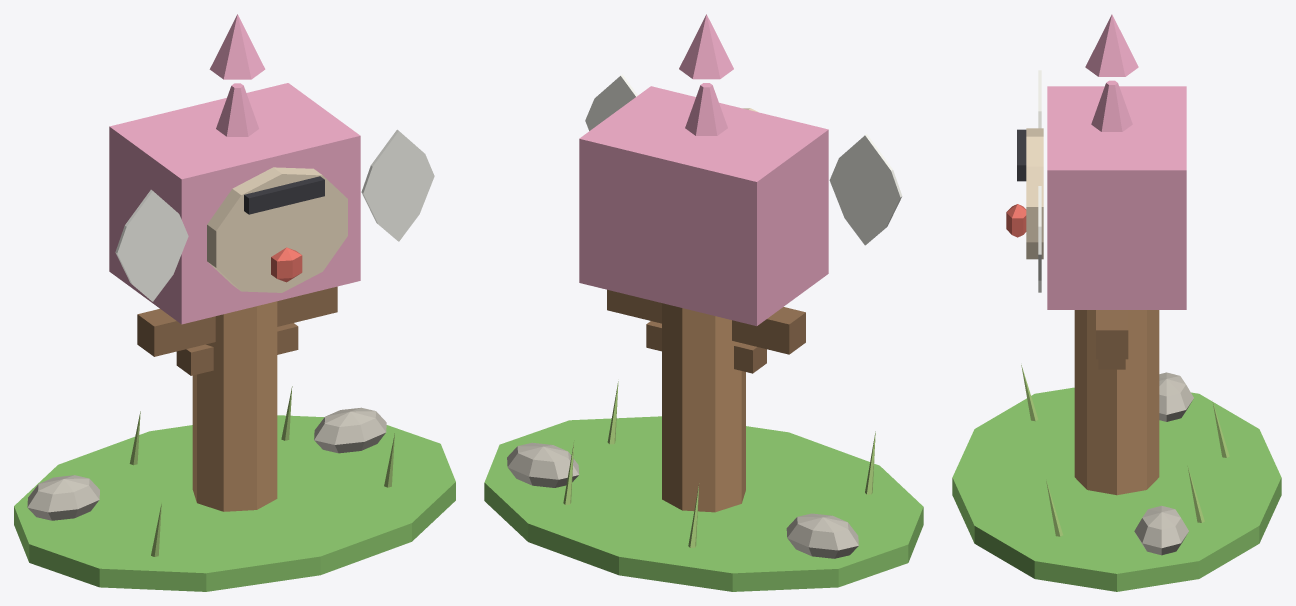
3 renders of one model, left to right at view 1: azimuth 30°, elevation 25°; view 2: azimuth 150°, elevation 25°; view 3: azimuth 270°, elevation 25°, orthographic. The views are drawn at different scales.
Parts seen in each view (by area): view 1: round grass base, rounded pink fairy mailbox body, short rounded wooden post, cream round front door, large white fairy wing left, large white fairy wing right, chunky cross support, small rock, small rock.001, top pink fairy jewel top, small black slot, small lower brace (+2 smaller); view 2: rounded pink fairy mailbox body, round grass base, short rounded wooden post, large white fairy wing left, chunky cross support, small rock.001, small rock, top pink fairy jewel top, top pink fairy jewel bottom, large white fairy wing right, small lower brace; view 3: round grass base, rounded pink fairy mailbox body, short rounded wooden post, cream round front door, small rock, top pink fairy jewel top, chunky cross support, top pink fairy jewel bottom, small rock.001, red heart knob, small black slot.
Boxes of the visible parts, bbox=[...] form: round grass base: bbox=[14, 415, 455, 591]; rounded pink fairy mailbox body: bbox=[109, 83, 360, 324]; short rounded wooden post: bbox=[192, 301, 277, 511]; cream round front door: bbox=[207, 167, 347, 292]; large white fairy wing left: bbox=[115, 189, 188, 301]; large white fairy wing right: bbox=[361, 129, 434, 241]; chunky cross support: bbox=[137, 286, 337, 356]; small rock: bbox=[314, 407, 386, 453]; small rock.001: bbox=[27, 475, 99, 520]; top pink fairy jewel top: bbox=[209, 14, 265, 79]; small black slot: bbox=[244, 176, 324, 214]; small lower brace: bbox=[176, 323, 298, 375]; rounded pink fairy mailbox body: bbox=[579, 86, 828, 326]; round grass base: bbox=[484, 416, 923, 591]; short rounded wooden post: bbox=[662, 303, 745, 512]; large white fairy wing left: bbox=[829, 134, 902, 245]; chunky cross support: bbox=[607, 289, 805, 354]; small rock.001: bbox=[786, 513, 858, 558]; small rock: bbox=[507, 442, 579, 487]; top pink fairy jewel top: bbox=[679, 14, 733, 79]; top pink fairy jewel bottom: bbox=[685, 83, 727, 135]; large white fairy wing right: bbox=[585, 74, 637, 130]; small lower brace: bbox=[646, 321, 766, 373]; round grass base: bbox=[952, 387, 1281, 591]; rounded pink fairy mailbox body: bbox=[1047, 86, 1186, 309]; short rounded wooden post: bbox=[1074, 310, 1159, 495]; cream round front door: bbox=[1026, 128, 1043, 259]; small rock: bbox=[1134, 505, 1188, 555]; top pink fairy jewel top: bbox=[1085, 14, 1138, 76]; chunky cross support: bbox=[1096, 310, 1128, 359]; top pink fairy jewel bottom: bbox=[1091, 80, 1132, 131]; small rock.001: bbox=[1159, 372, 1193, 421]; red heart knob: bbox=[1006, 204, 1026, 237]; small black slot: bbox=[1017, 129, 1026, 181].
Size of the model in its own units: 1.84 by 2.15 by 1.32.
